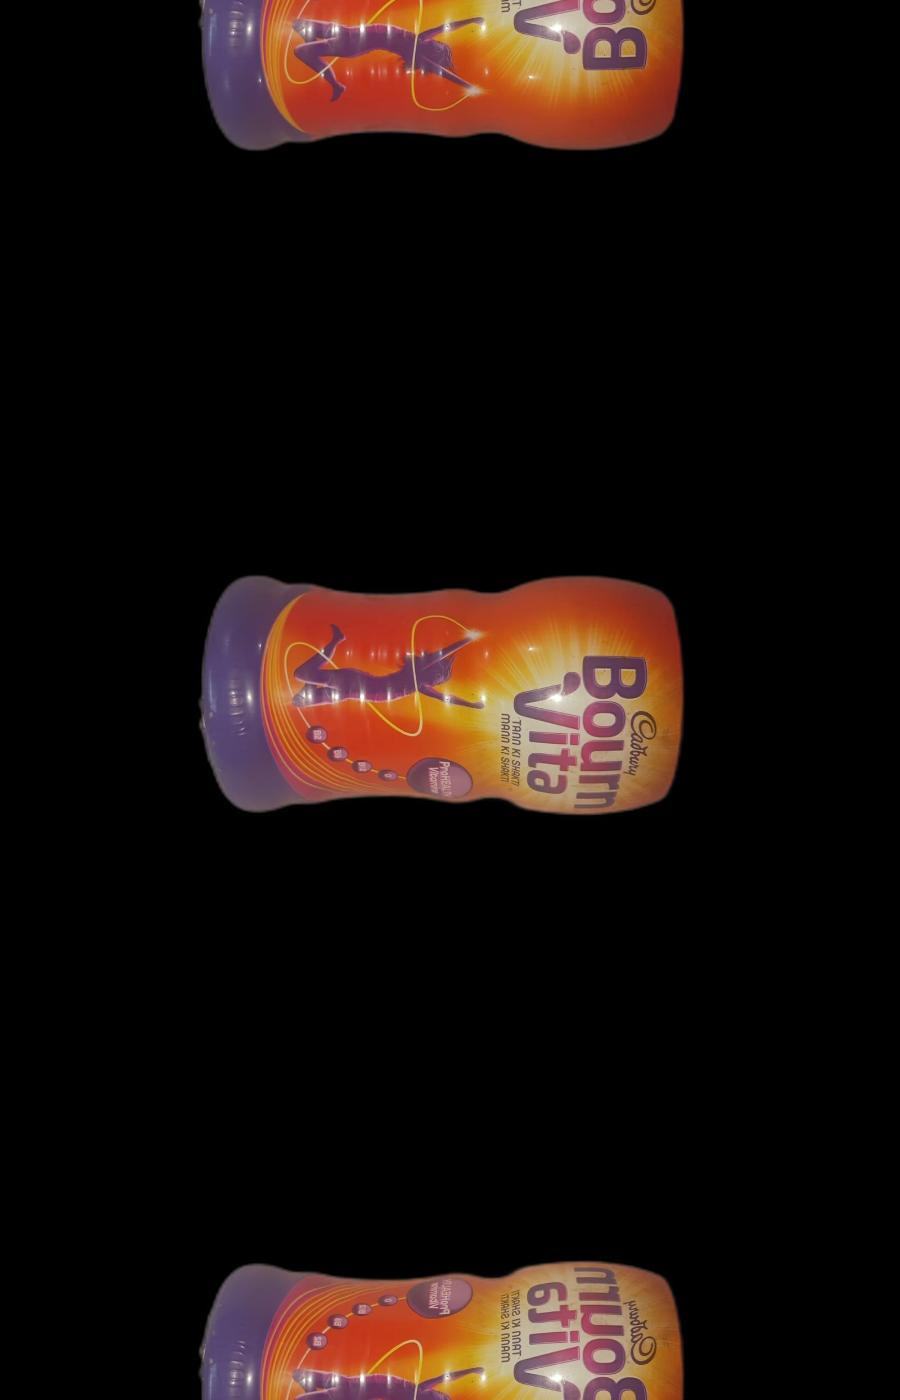Cadbury Bournvita Chocolate Health Drink-1kg-: (200, 564, 700, 816), (200, 0, 699, 160), (200, 1258, 699, 1400)
